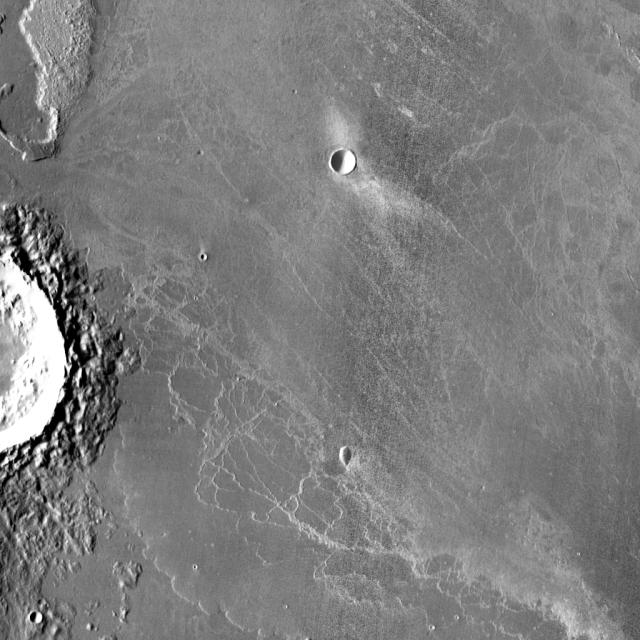crater: (0, 254, 67, 514), (329, 148, 356, 174), (29, 612, 42, 625), (202, 254, 208, 260)
